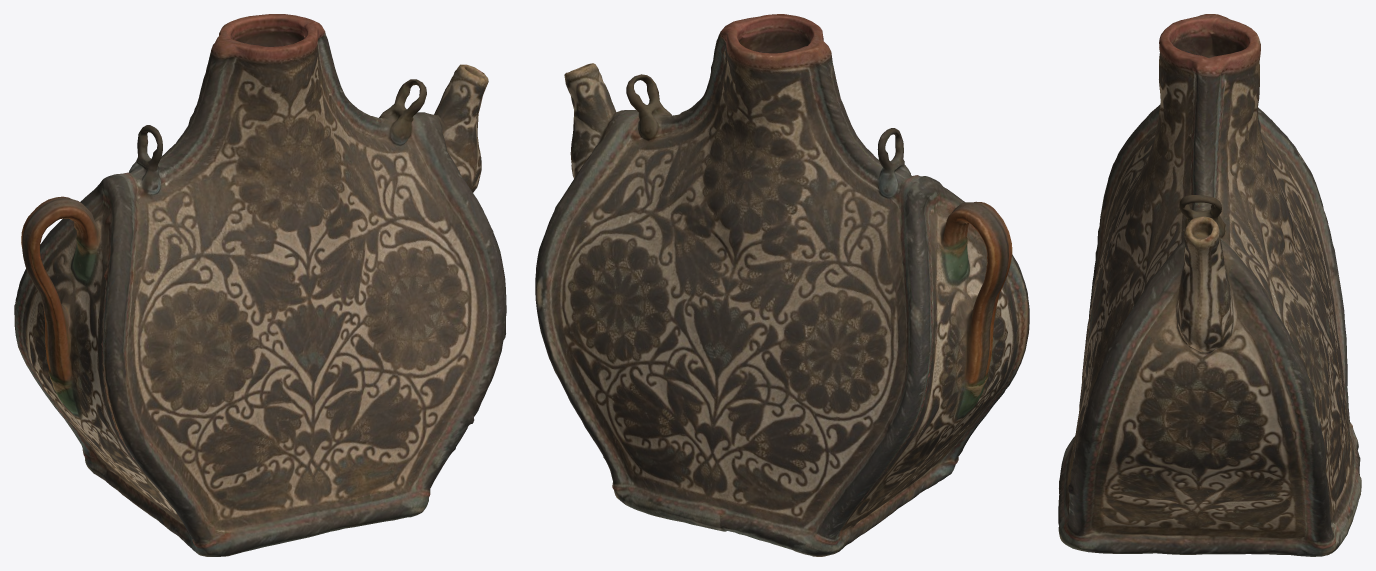
Rendered from Trinkflasche_Eth41G 1.glb.
3 views of the same model, side by side, from view 1: azimuth 30°, elevation 25°; view 2: azimuth 150°, elevation 25°; view 3: azimuth 270°, elevation 25° (orthographic). The views are drawn at different scales.
Bounding box in the file's own units: 0.2263 × 0.2189 × 0.127.
Materials: 1 (1 with a texture image).
